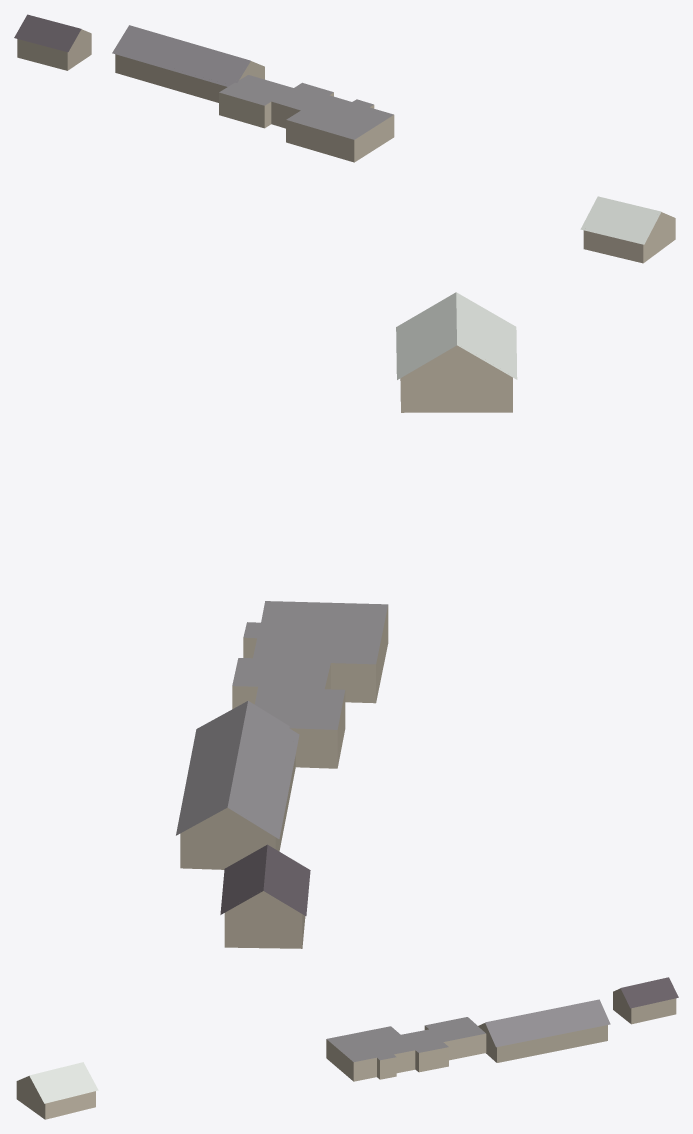
3 views of the same model, one above another, from view 1: azimuth 30°, elevation 25°; view 2: azimuth 150°, elevation 25°; view 3: azimuth 270°, elevation 25° (orthographic). The views are drawn at different scales.
Parts seen in each view (by area): view 1: tuile; view 2: tuile; view 3: tuile.
Part boxes in pixels (x1,y1,x2,y2): tuile: (14,14,675,263); tuile: (176,292,517,948); tuile: (16,977,678,1119).
Size of the model in its own units: 52.07 by 7.63 by 114.
